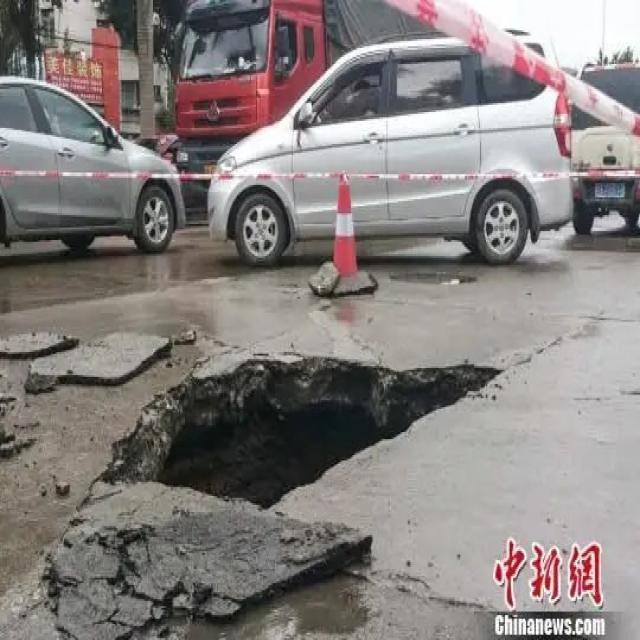Buraco: (92, 353, 508, 515), (114, 554, 376, 640), (387, 271, 481, 288)
